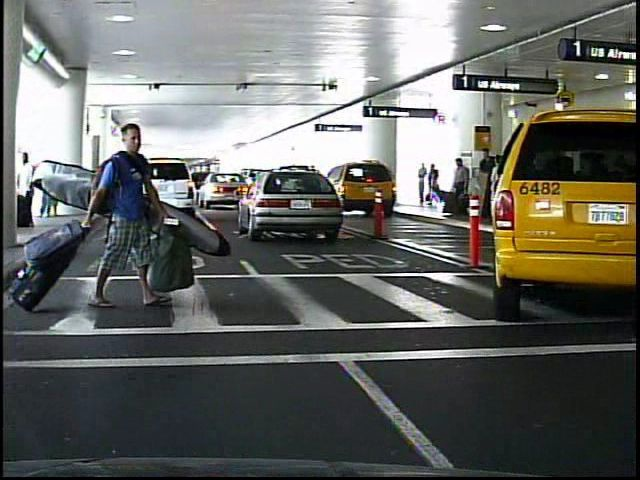person: (93, 113, 166, 329), (448, 158, 470, 220), (485, 145, 499, 215), (415, 163, 427, 208), (427, 164, 437, 208)
